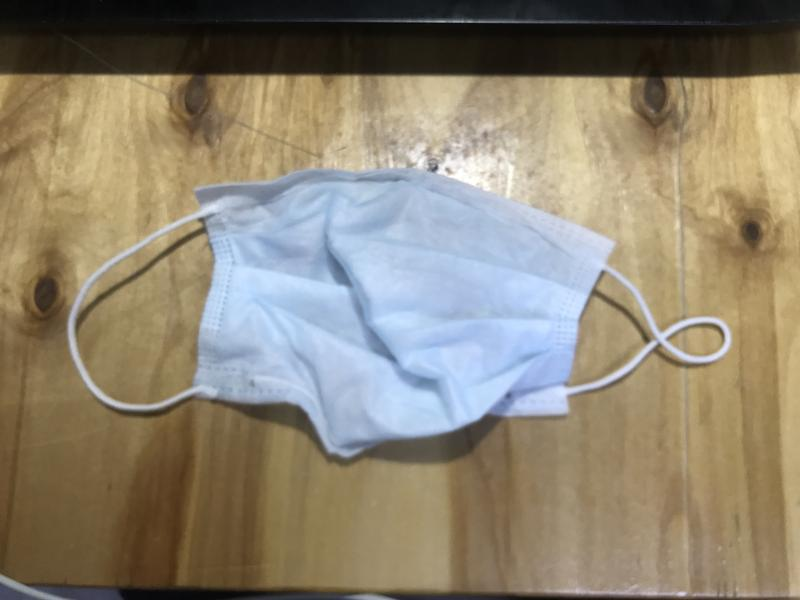medical_mask: (67, 169, 730, 460)
